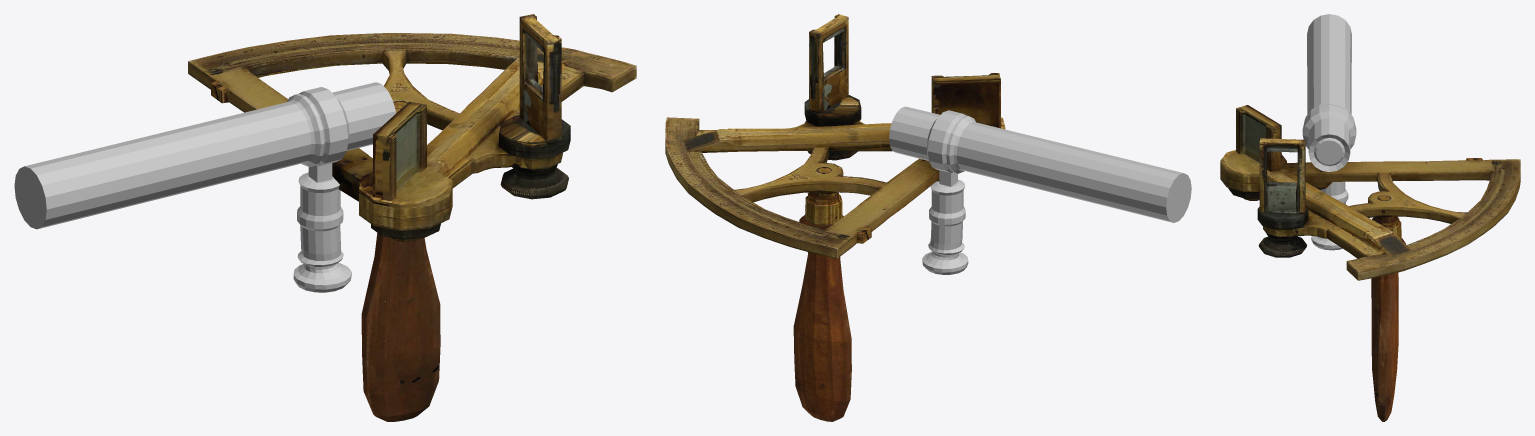
The model's file is 01_Sextant!.fbx.
The picture shows the model from 3 angles, left to right: view 1: azimuth 30°, elevation 25°; view 2: azimuth 150°, elevation 25°; view 3: azimuth 270°, elevation 25°; orthographic projection. The views are drawn at different scales.
Parts seen in each view (by area): view 1: Sextant, Fernglas; view 2: Sextant, Fernglas; view 3: Sextant, Fernglas.
Part boxes in pixels (x1,y1,x2,y2): Sextant: (188, 14, 636, 421); Fernglas: (14, 82, 395, 292); Sextant: (665, 14, 1005, 421); Fernglas: (889, 106, 1191, 274); Sextant: (1220, 105, 1520, 421); Fernglas: (1302, 14, 1356, 250).
Size of the model in its own units: 810 by 529 by 484.
